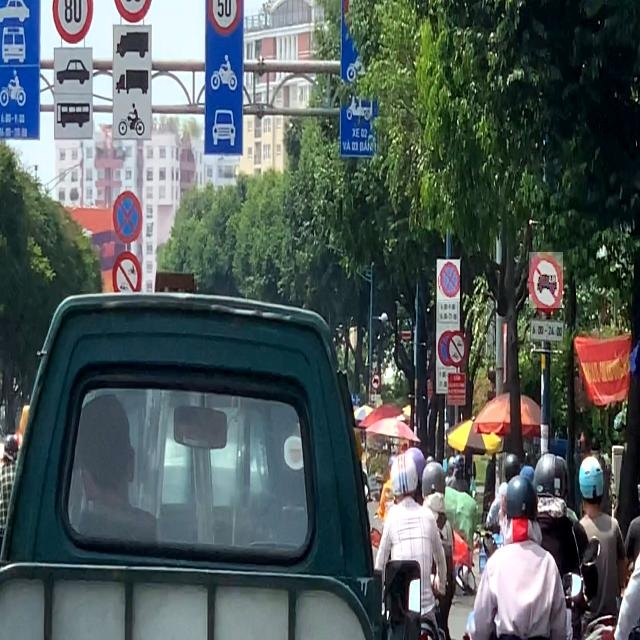bien_chi_dan: (530, 252, 564, 308), (111, 188, 144, 244), (437, 260, 460, 302)
